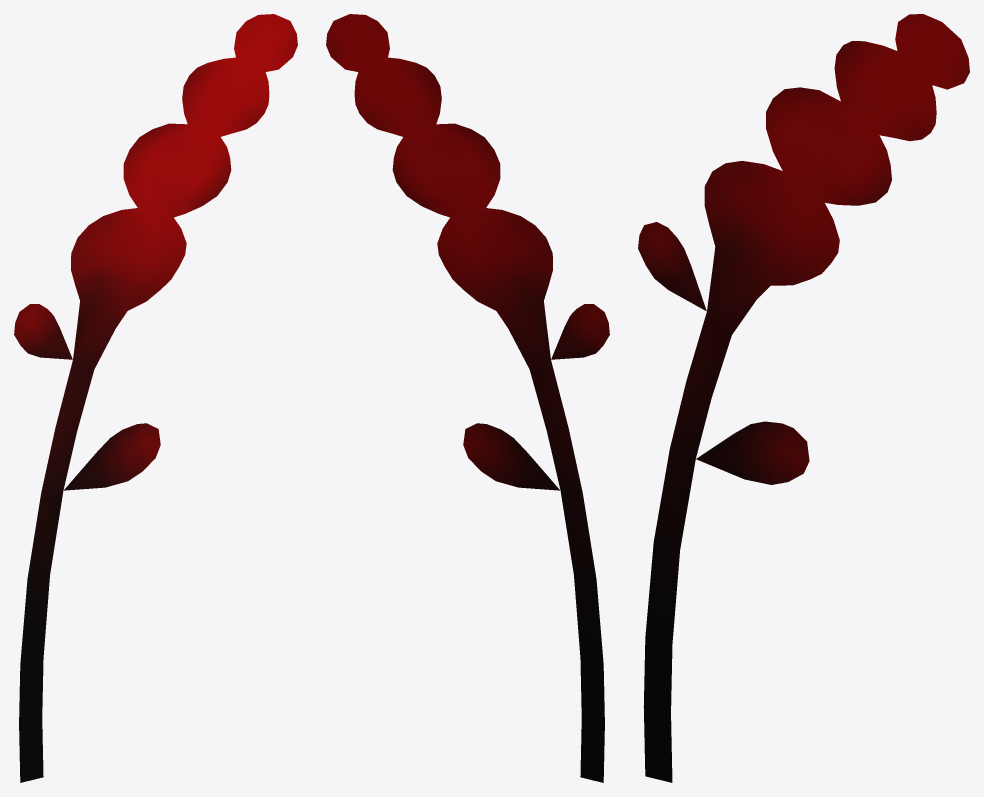
File: SM_Lavender_01_LOD0.fbx
The picture shows the model from 3 angles, left to right: view 1: azimuth 30°, elevation 25°; view 2: azimuth 150°, elevation 25°; view 3: azimuth 330°, elevation 25°; orthographic projection. The views are drawn at different scales.
Visible parts, largest first — view 1: SM_Lavender_01_LOD0; view 2: SM_Lavender_01_LOD0; view 3: SM_Lavender_01_LOD0.
Part boxes in pixels (x1,y1,x2,y2): SM_Lavender_01_LOD0: (14, 14, 297, 782); SM_Lavender_01_LOD0: (326, 14, 609, 782); SM_Lavender_01_LOD0: (638, 14, 969, 782).
Bounding box in the file's own units: 106 × 4.01e-05 × 252.
